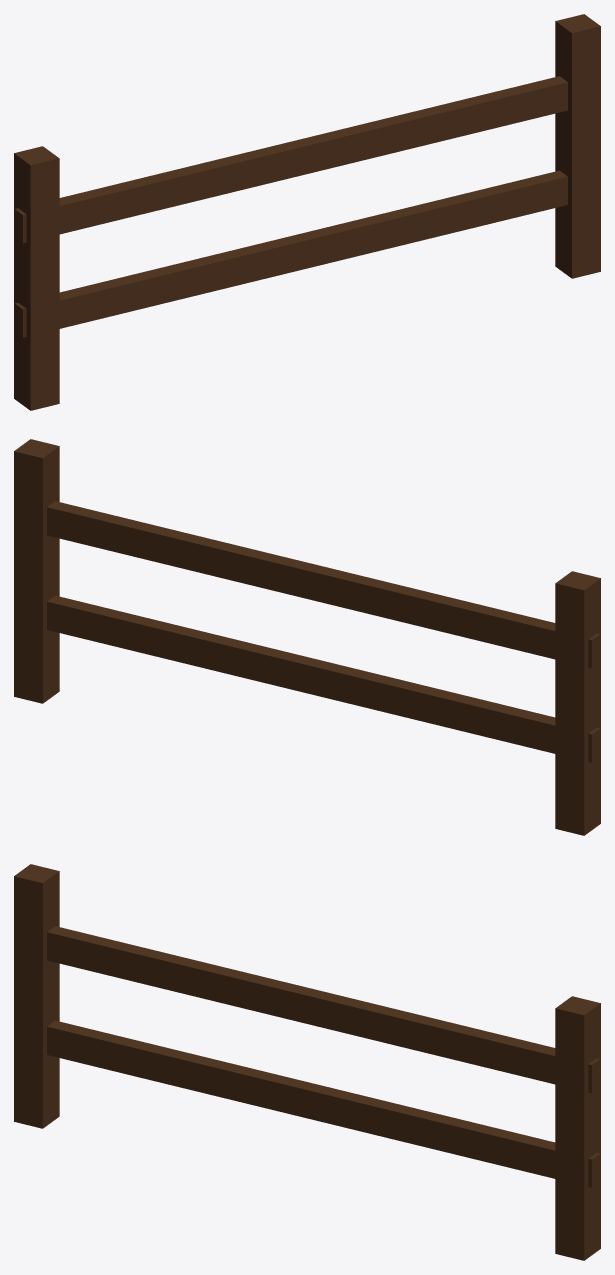
File: fence_segment.obj
The picture shows the model from 3 angles, top to bottom: view 1: azimuth 30°, elevation 25°; view 2: azimuth 150°, elevation 25°; view 3: azimuth 330°, elevation 25°; orthographic projection.
Parts seen in each view (by area): view 1: Cube.002, Cube.003, Cube, Cube.001; view 2: Cube.002, Cube.003, Cube, Cube.001; view 3: Cube.002, Cube.003, Cube.001, Cube.
Part boxes in pixels (bbox=[...]): Cube.002: bbox=[14, 170, 567, 337]; Cube.003: bbox=[14, 76, 567, 243]; Cube: bbox=[14, 146, 59, 410]; Cube.001: bbox=[555, 14, 600, 278]; Cube.002: bbox=[47, 595, 600, 762]; Cube.003: bbox=[47, 501, 600, 668]; Cube: bbox=[555, 571, 600, 835]; Cube.001: bbox=[14, 439, 59, 703]; Cube.002: bbox=[47, 1020, 600, 1187]; Cube.003: bbox=[47, 926, 600, 1093]; Cube.001: bbox=[555, 996, 600, 1260]; Cube: bbox=[14, 864, 59, 1128].
Bounding box in the file's own units: 3.2 × 1.3 × 0.16.
